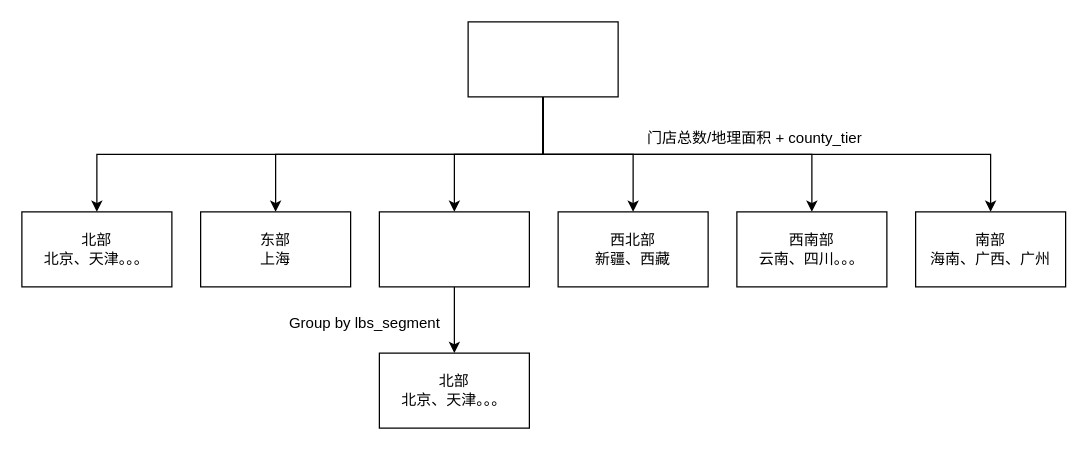
Image size: 1088x450. Some labels were removed from this diagram. Here are the shapes that lost their labels. From the top down, the box of each, then its label:
(467, 21, 618, 97): MCD' shop : 5948
(378, 211, 529, 287): 中部 江苏、江西。。。
